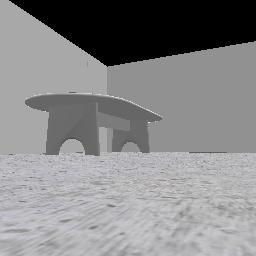masa: (26, 93, 162, 154)
